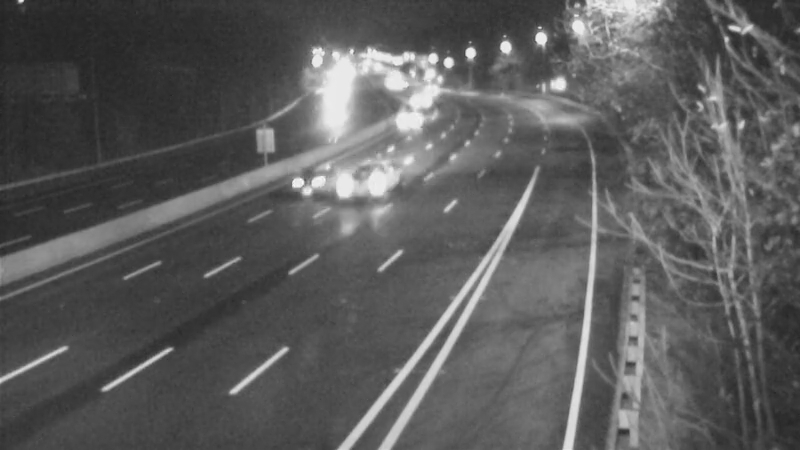vehicle: (320, 146, 400, 226), (264, 143, 344, 223), (407, 65, 457, 115), (394, 75, 444, 125), (388, 98, 438, 148)
